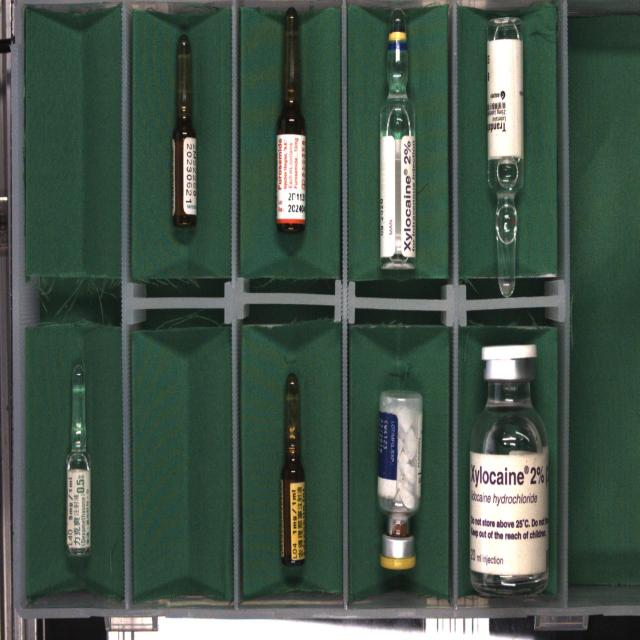Vials: (469, 344, 549, 594), (377, 391, 422, 570)
